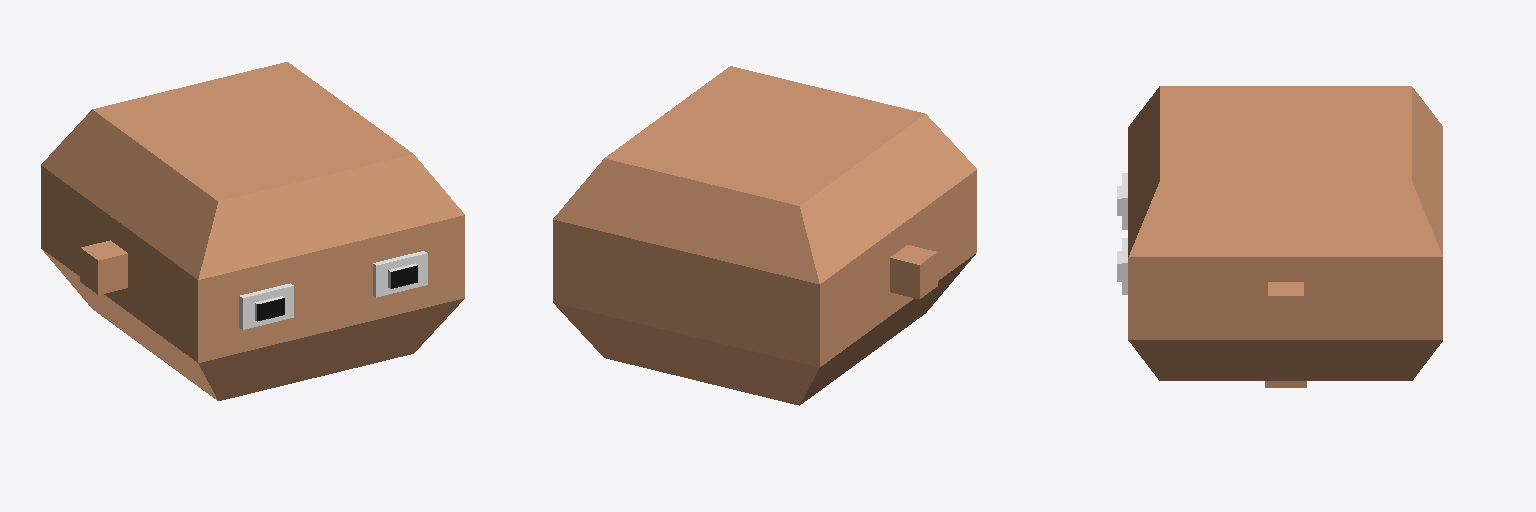
3 renders of one model, left to right at view 1: azimuth 30°, elevation 25°; view 2: azimuth 150°, elevation 25°; view 3: azimuth 270°, elevation 25°, orthographic.
Parts seen in each view (by area): view 1: Cube; view 2: Cube; view 3: Cube.
Part boxes in pixels (x1,y1,x2,y2): Cube: (41, 62, 464, 400); Cube: (553, 66, 976, 405); Cube: (1117, 86, 1442, 387).
Size of the model in its own units: 0.8075 by 0.5761 by 0.6986.
Materials: 1 (1 with a texture image).